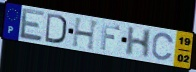C: (151, 32, 175, 62)
D: (44, 12, 68, 45)
E: (19, 7, 46, 42)
F: (99, 22, 121, 52)
H: (71, 17, 101, 52), (124, 26, 154, 59)
